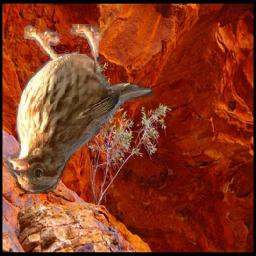Sparrow: (6, 24, 154, 194)
